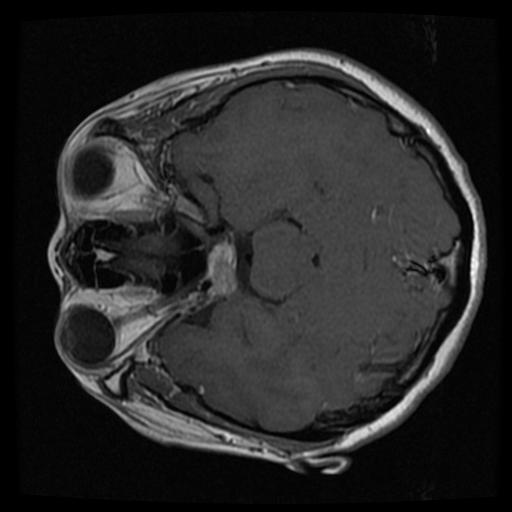pituitary tumour: (206, 239, 236, 301)
